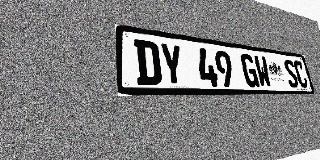4: (196, 47, 219, 86)
9: (214, 50, 236, 87)
C: (293, 60, 309, 88)
D: (134, 39, 162, 85)
G: (240, 53, 260, 87)
S: (283, 59, 300, 88)
W: (253, 55, 272, 87)
Y: (159, 42, 185, 86)
